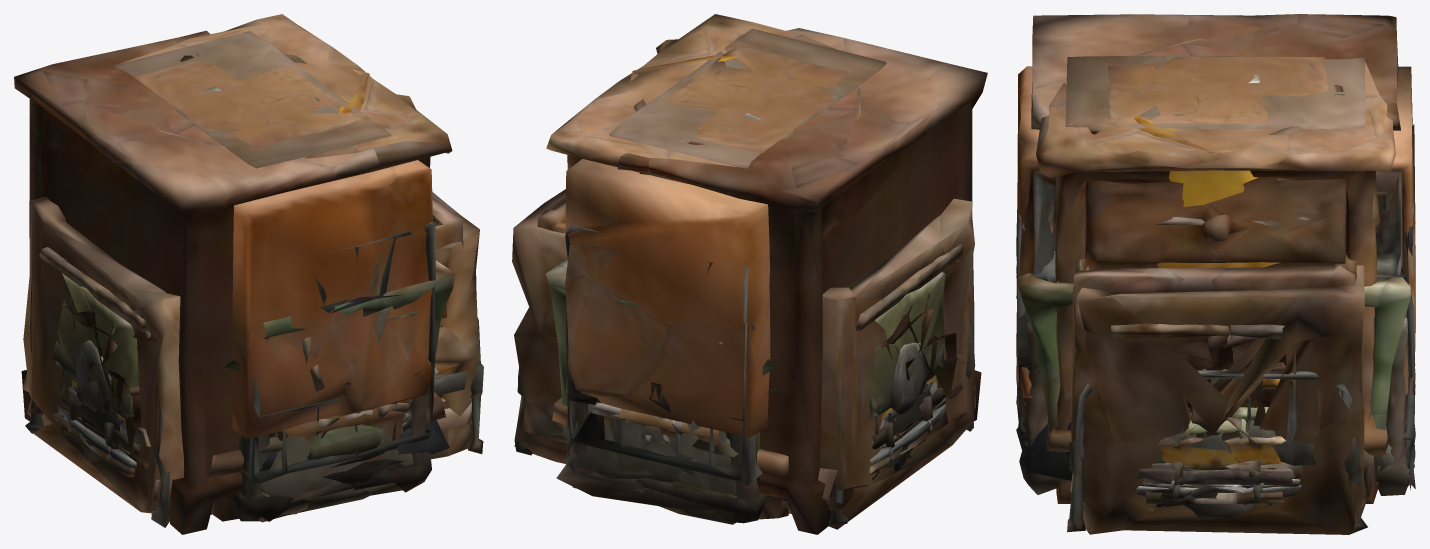
File: env.glb
3 renders of one model, left to right at view 1: azimuth 30°, elevation 25°; view 2: azimuth 150°, elevation 25°; view 3: azimuth 270°, elevation 25°, orthographic. The views are drawn at different scales.
Parts seen in each view (by area): view 1: e_drawers, e_tv, e_crate, e_nightstand, e_wardrobe, e_buffet, e_bunk, e_ural, e_chest, e_block, e_pipes, e_bed (+13 smaller); view 2: e_drawers, e_tv, e_crate, e_nightstand, e_wardrobe, e_buffet, e_bunk, e_block, e_ural, e_pipes, e_chest, e_woodpile (+11 smaller); view 3: e_crate, e_nightstand, e_drawers, e_wardrobe, e_tv, e_buffet, e_dumpster, e_chest, e_bed, e_paz, e_bunk, e_hazard (+9 smaller).
Boxes of the visible parts, x1,y1,x2,y2 form: e_drawers: [14, 30, 463, 534]; e_tv: [232, 160, 432, 438]; e_crate: [23, 192, 479, 514]; e_nightstand: [121, 14, 452, 521]; e_wardrobe: [134, 61, 362, 148]; e_buffet: [112, 31, 391, 168]; e_bunk: [240, 222, 435, 483]; e_ural: [52, 273, 138, 419]; e_chest: [232, 382, 431, 521]; e_block: [260, 307, 413, 515]; e_pipes: [22, 285, 471, 501]; e_bed: [25, 279, 483, 527]; e_drawers: [537, 28, 987, 534]; e_tv: [565, 159, 770, 437]; e_crate: [512, 189, 974, 529]; e_nightstand: [546, 14, 836, 519]; e_wardrobe: [661, 45, 849, 152]; e_buffet: [609, 28, 886, 168]; e_bunk: [565, 224, 762, 486]; e_block: [574, 404, 736, 520]; e_ural: [869, 272, 945, 419]; e_pipes: [514, 292, 976, 512]; e_chest: [565, 382, 767, 523]; e_woodpile: [556, 455, 720, 510]; e_crate: [1071, 263, 1366, 534]; e_nightstand: [1036, 62, 1395, 503]; e_drawers: [1031, 14, 1400, 371]; e_wardrobe: [1107, 56, 1327, 123]; e_tv: [1016, 66, 1415, 397]; e_buffet: [1065, 55, 1365, 134]; e_dumpster: [1016, 241, 1415, 466]; e_chest: [1019, 314, 1415, 495]; e_bed: [1067, 370, 1367, 534]; e_paz: [1145, 369, 1285, 503]; e_bunk: [1016, 124, 1415, 490]; e_hazard: [1134, 115, 1280, 268].
Bounding box in the file's own units: 1 × 1 × 1.
Materials: 1 (1 with a texture image).
